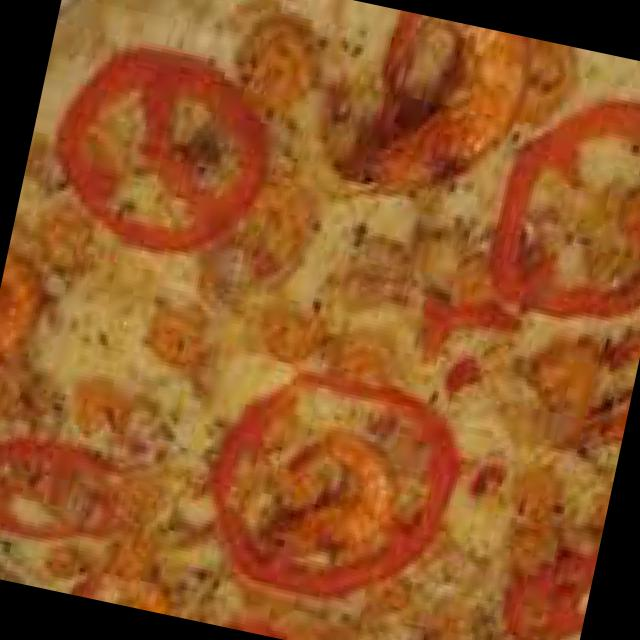camarao: (327, 6, 536, 216), (261, 420, 398, 575), (545, 305, 639, 466)
pizza: (0, 0, 639, 639)
